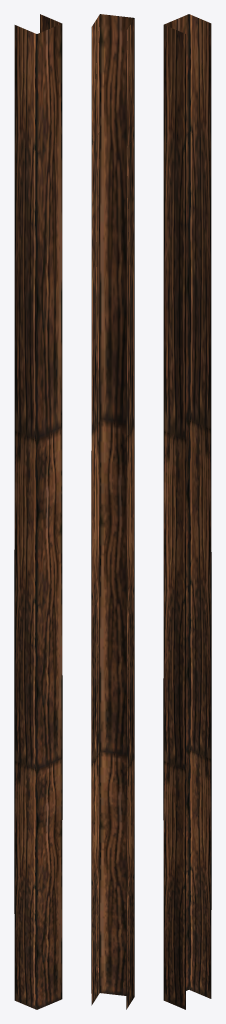
File: LAKETOWN_WAREHOUSE2_PS_WH2_OBJECT172.fbx
3 renders of one model, left to right at view 1: azimuth 90°, elevation 25°; view 2: azimuth 210°, elevation 25°; view 3: azimuth 270°, elevation 25°, orthographic.
Parts seen in each view (by area): view 1: LAKETOWN_WAREHOUSE2_PS_WH2_OBJECT172; view 2: LAKETOWN_WAREHOUSE2_PS_WH2_OBJECT172; view 3: LAKETOWN_WAREHOUSE2_PS_WH2_OBJECT172.
Part boxes in pixels (x1,y1,x2,y2): LAKETOWN_WAREHOUSE2_PS_WH2_OBJECT172: (14, 14, 62, 1009); LAKETOWN_WAREHOUSE2_PS_WH2_OBJECT172: (91, 14, 134, 1009); LAKETOWN_WAREHOUSE2_PS_WH2_OBJECT172: (163, 14, 211, 1009).
Size of the model in its own units: 5014 by 112200 by 5011.
Materials: 1 (1 with a texture image).
